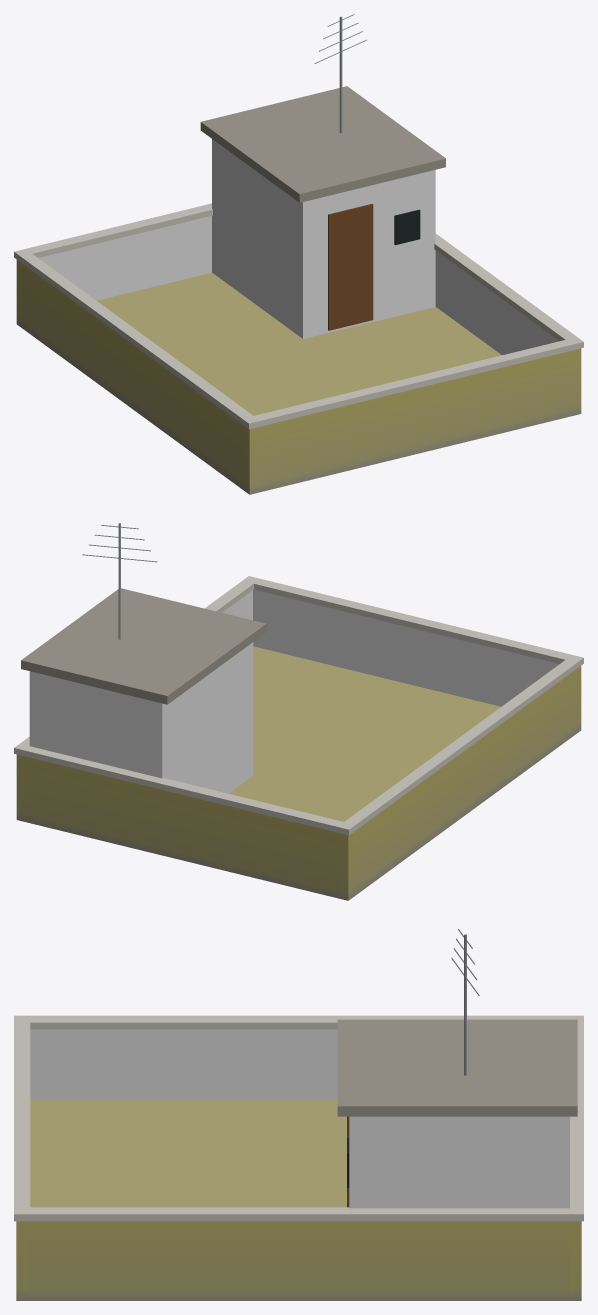
The model's file is mai_tum_60.glb.
The picture shows the model from 3 angles, top to bottom: view 1: azimuth 30°, elevation 25°; view 2: azimuth 150°, elevation 25°; view 3: azimuth 270°, elevation 25°; orthographic projection. The views are drawn at different scales.
Parts seen in each view (by area): view 1: mai_tum_60; view 2: mai_tum_60; view 3: mai_tum_60.
Part boxes in pixels (<box>): mai_tum_60: <box>14,14,583,494</box>; mai_tum_60: <box>14,523,583,900</box>; mai_tum_60: <box>14,929,583,1300</box>.
Bounding box in the file's own units: 6.06 × 4.75 × 7.36.
